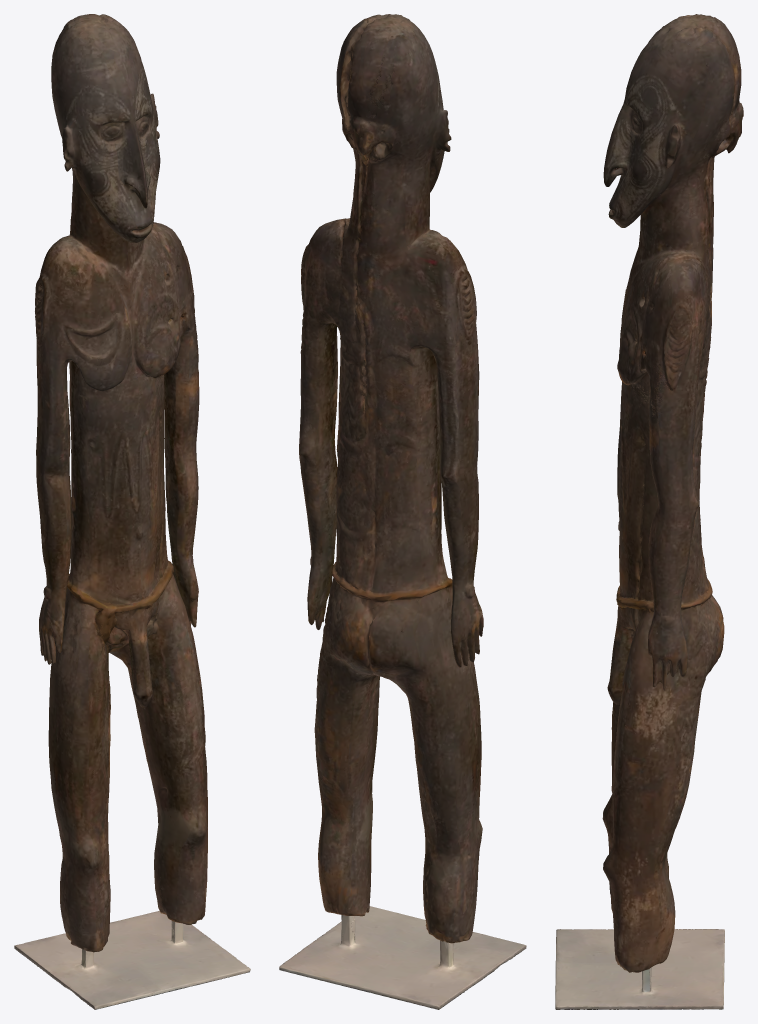
File: preview.glb
The picture shows the model from 3 angles, left to right: view 1: azimuth 30°, elevation 25°; view 2: azimuth 150°, elevation 25°; view 3: azimuth 270°, elevation 25°; orthographic projection. The views are drawn at different scales.
Parts seen in each view (by area): view 1: _979_206_1561_SawosFigure_SP_Edit_n3d; view 2: _979_206_1561_SawosFigure_SP_Edit_n3d; view 3: _979_206_1561_SawosFigure_SP_Edit_n3d.
Boxes of the visible parts, x1,y1,x2,y2 form: _979_206_1561_SawosFigure_SP_Edit_n3d: [14, 14, 250, 1009]; _979_206_1561_SawosFigure_SP_Edit_n3d: [279, 14, 526, 1009]; _979_206_1561_SawosFigure_SP_Edit_n3d: [555, 14, 743, 1009].
Bounding box in the file's own units: 0.00338 × 0.0187 × 0.00338.
2 materials, 2 textured.
